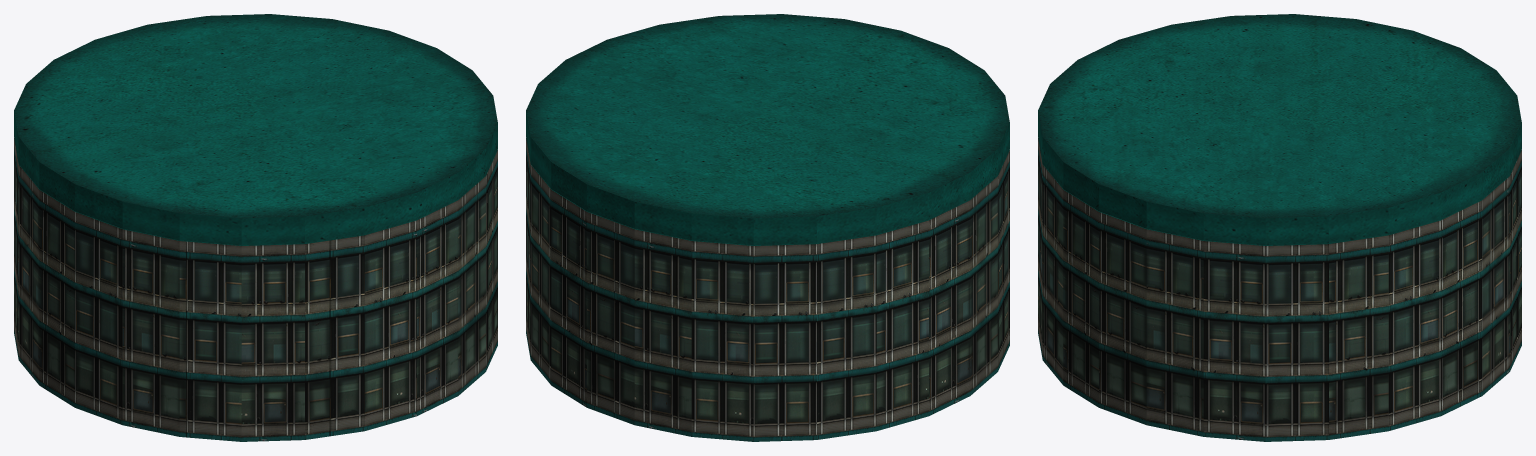
The model's file is building 2 base.FBX.
The picture shows the model from 3 angles, left to right: view 1: azimuth 30°, elevation 25°; view 2: azimuth 150°, elevation 25°; view 3: azimuth 270°, elevation 25°; orthographic projection.
Parts seen in each view (by area): view 1: Group12, Group13; view 2: Group12, Group13; view 3: Group12, Group13.
Part boxes in pixels (x1=…): Group12: x1=14, y1=138, x2=497, y2=441; Group13: x1=14, y1=14, x2=497, y2=245; Group12: x1=526, y1=138, x2=1009, y2=441; Group13: x1=526, y1=14, x2=1009, y2=245; Group12: x1=1038, y1=138, x2=1521, y2=441; Group13: x1=1038, y1=14, x2=1521, y2=245.
Bounding box in the file's own units: 403 × 205 × 403.
